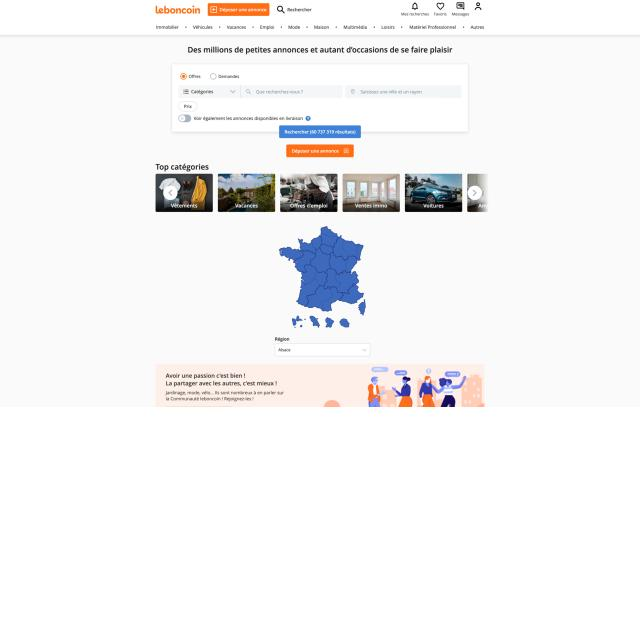CheckBox: (279, 124, 361, 139), (286, 144, 354, 158), (207, 3, 270, 16), (399, 1, 430, 18), (276, 4, 314, 16), (451, 1, 470, 18), (433, 2, 449, 17), (179, 114, 191, 123), (474, 1, 482, 12), (180, 72, 187, 80), (210, 73, 217, 80)
ImageView: (156, 363, 485, 406)
Switch: (154, 173, 489, 212)
alert: (276, 342, 372, 358), (190, 88, 238, 96)
bag: (0, 0, 640, 37)
carousel: (182, 88, 190, 95), (245, 89, 253, 95), (350, 88, 355, 95)
data feed: (218, 74, 240, 79), (189, 73, 201, 80)
date picker: (154, 4, 202, 15)
decoration: (155, 22, 488, 32)
footer: (360, 88, 423, 95), (256, 88, 304, 96)
illustration: (179, 100, 197, 112)
image: (187, 46, 456, 56)
